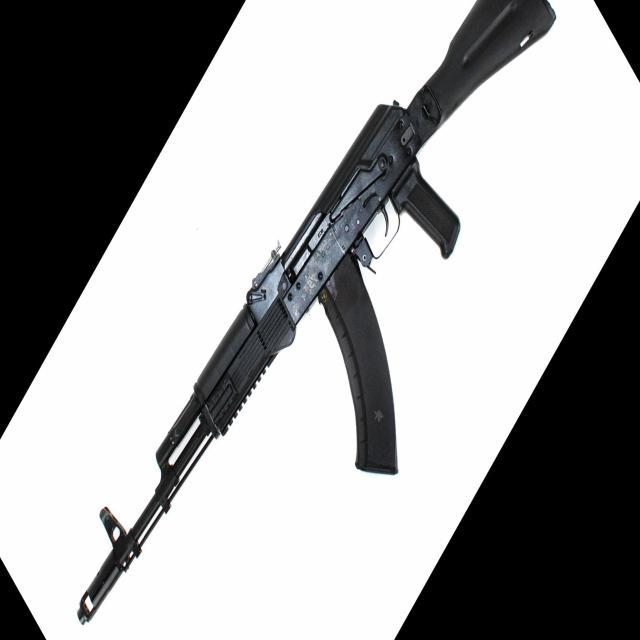weapon: (76, 0, 556, 627)
